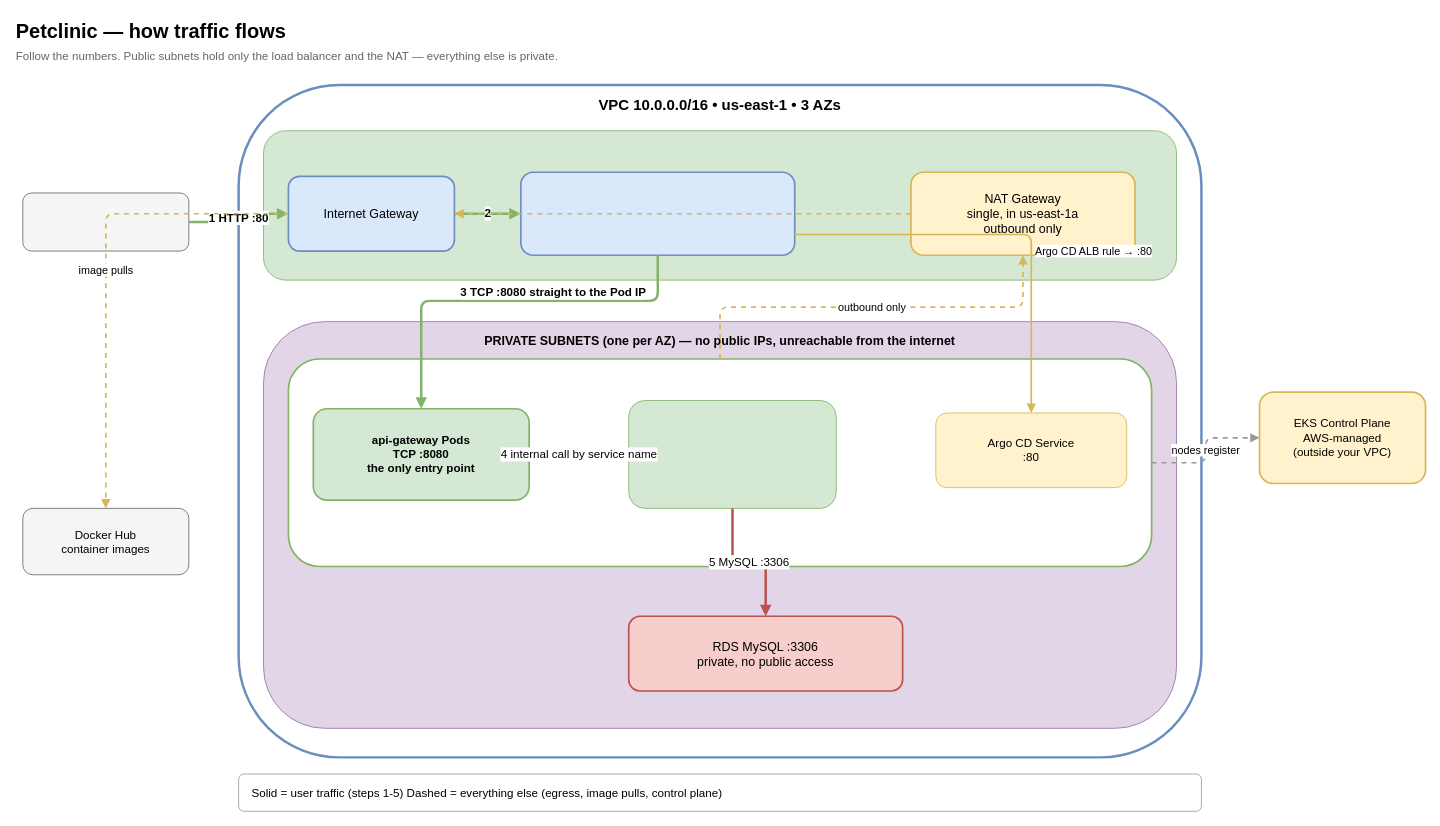
The diagram is 1440 pixels wide and 826 high, and some of its shapes have lost their labels. The shapes that lost their labels are listed below. From the top down, each one's box as (x1, y1, x2, y2) in pixels, then its label:
(22, 192, 189, 251): Internet Users
(520, 171, 795, 256): Application Load Balancer listener HTTP :80 (one for Petclinic, one for Argo CD)
(263, 130, 1177, 280): PUBLIC SUBNETS (one per AZ)
(287, 358, 1152, 567): EKS worker nodes (spot t3.small, spread across the 3 AZs)
(628, 400, 836, 508): Backend Pods customers :8081 visits :8082 vets :8083
